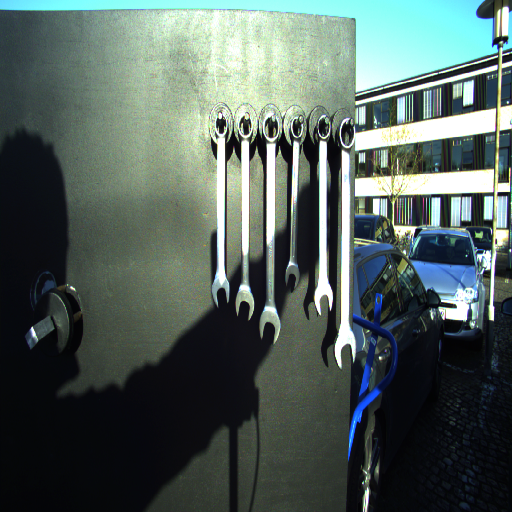bottom: (256, 309, 282, 347), (331, 332, 357, 370), (311, 286, 334, 316), (210, 276, 230, 308), (234, 290, 252, 321), (283, 264, 301, 292)
top: (260, 112, 281, 147), (337, 116, 355, 155), (315, 112, 331, 146), (288, 115, 305, 146), (212, 113, 230, 141), (236, 114, 254, 141)
